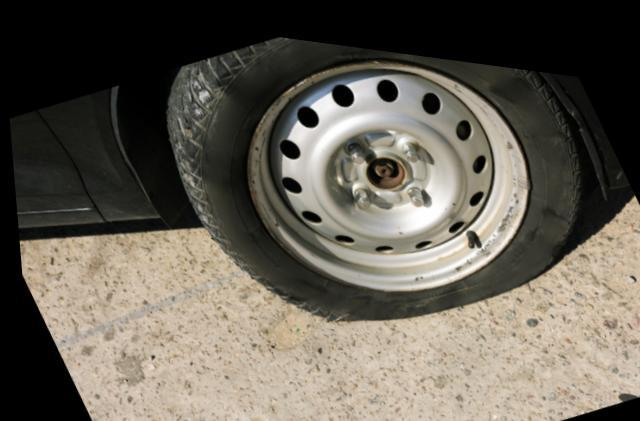tire flat: (164, 29, 580, 311)
